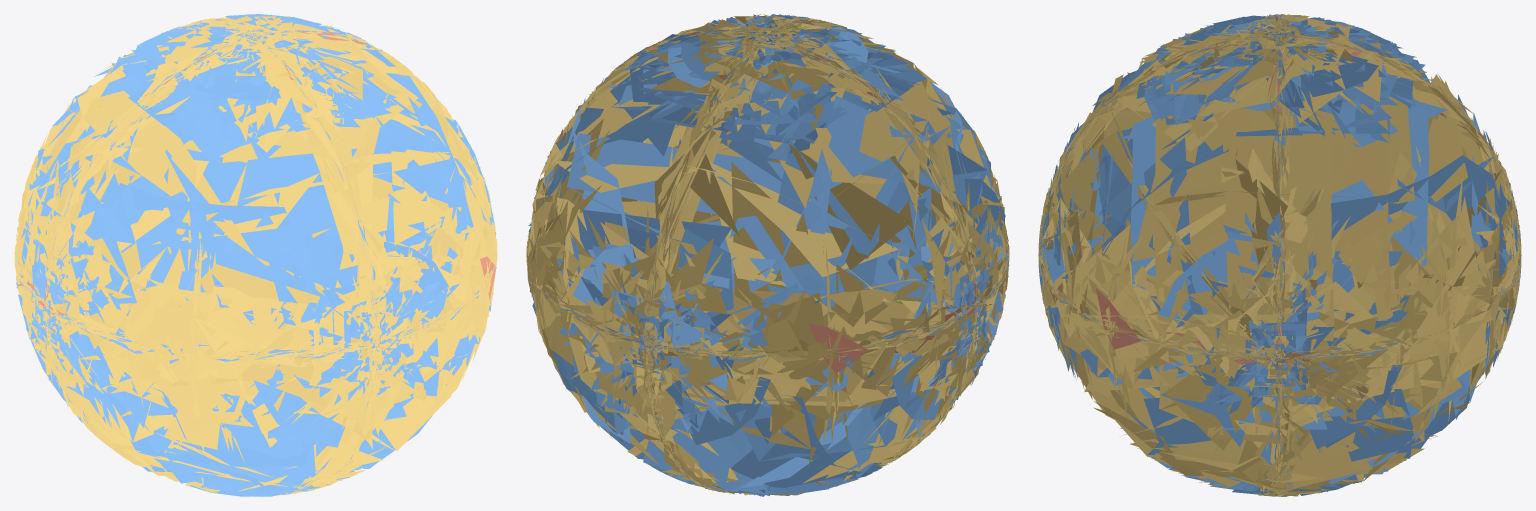
File: stage9.glb
3 views of the same model, side by side, from view 1: azimuth 30°, elevation 25°; view 2: azimuth 150°, elevation 25°; view 3: azimuth 270°, elevation 25° (orthographic).
Visible parts, largest first — view 1: ehouse-9-e_i, ehouse-9-hvac, ehouse-9-telecom; view 2: ehouse-9-e_i, ehouse-9-hvac, ehouse-9-telecom; view 3: ehouse-9-e_i, ehouse-9-hvac, ehouse-9-telecom.
Boxes of the visible parts, x1,y1,x2,y2 form: ehouse-9-e_i: (14, 15, 497, 496); ehouse-9-hvac: (15, 14, 495, 496); ehouse-9-telecom: (17, 19, 496, 352); ehouse-9-e_i: (526, 14, 1009, 495); ehouse-9-hvac: (527, 14, 1009, 496); ehouse-9-telecom: (644, 20, 1003, 373); ehouse-9-e_i: (1038, 14, 1521, 496); ehouse-9-hvac: (1038, 14, 1521, 496); ehouse-9-telecom: (1096, 17, 1362, 496).
Bounding box in the file's own units: 2 × 2 × 2.
